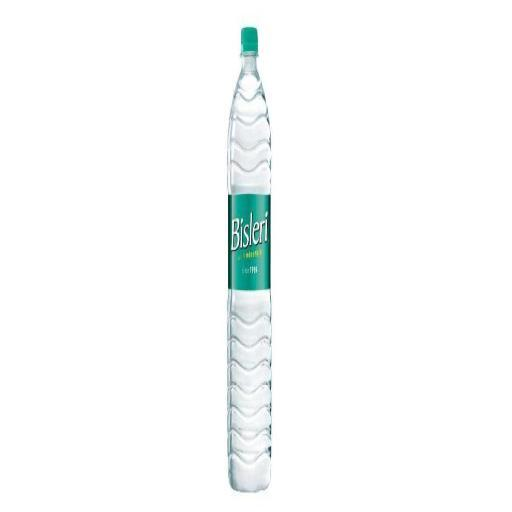bottle: (222, 17, 278, 502)
